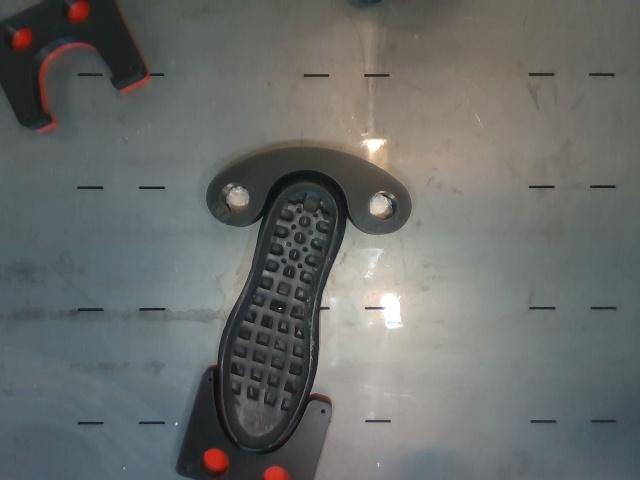shoes: (222, 183, 337, 449)
